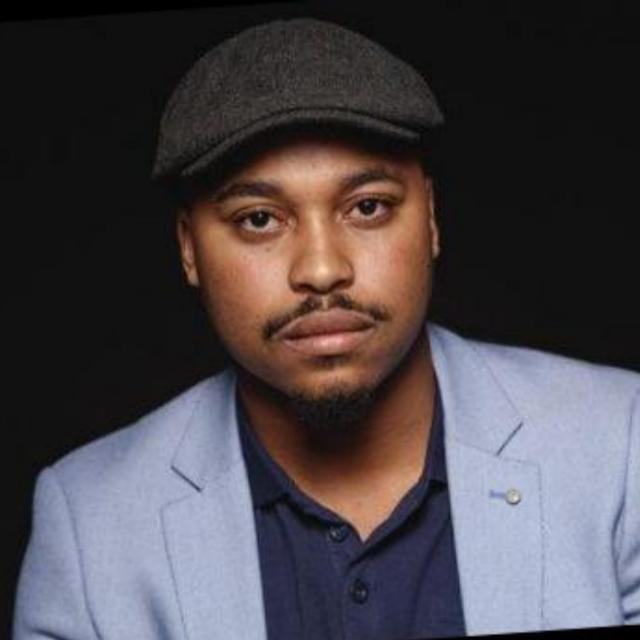Natural: (163, 101, 459, 433)
